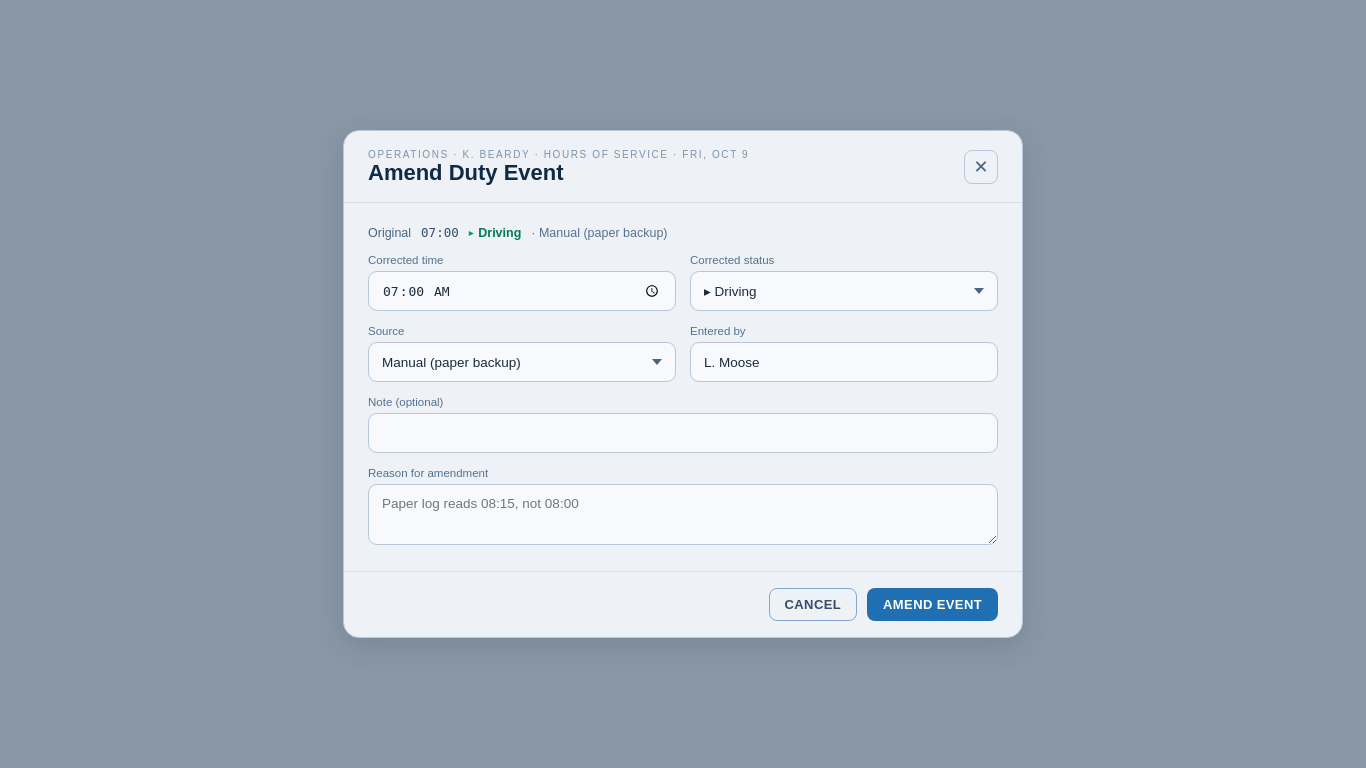
AmendEventModal › shows the server's refusal verbatim
The width and height of the screenshot is (1366, 768).
In the text box with placeholder "Paper log reads 08:15, not 08:00": [683, 515] box [368,484,998,545], type "r"
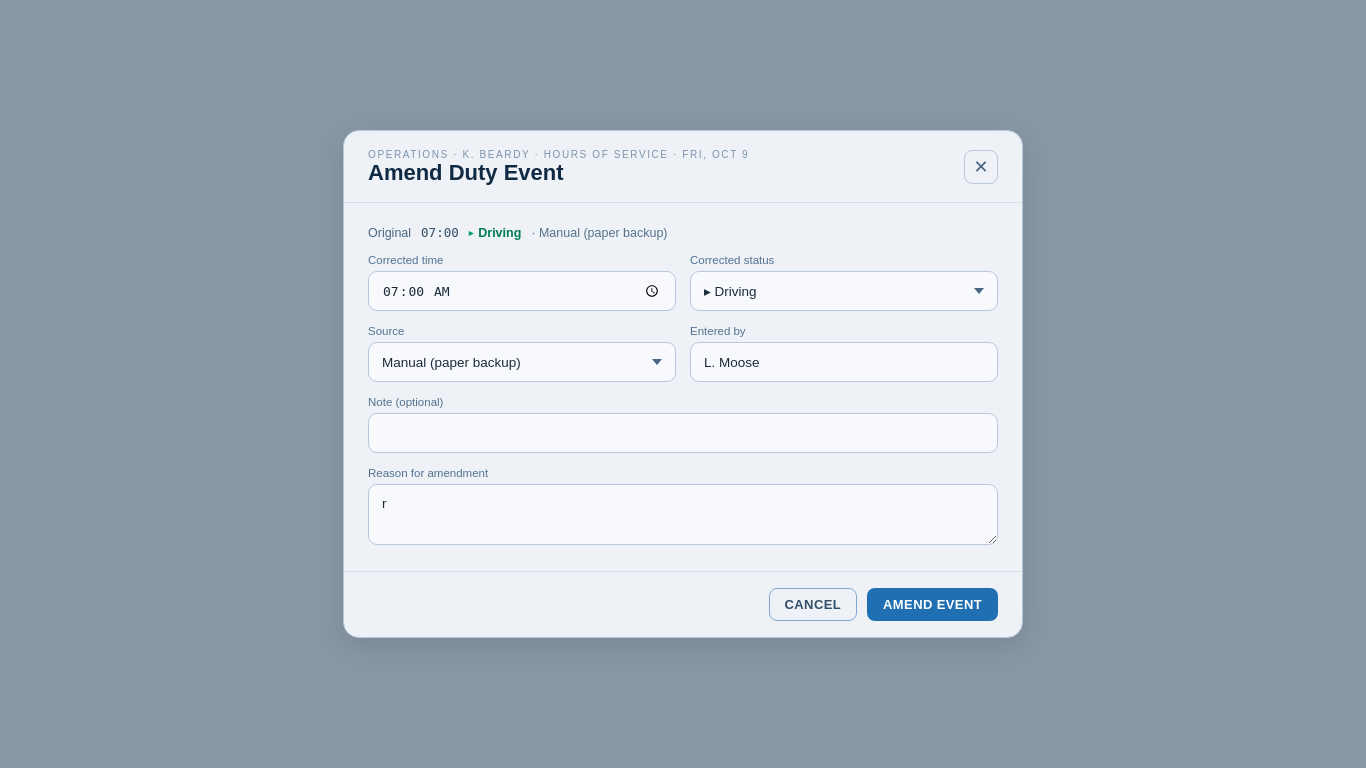
Click the text "AMEND EVENT": [933, 604] box [867,588,998,621]
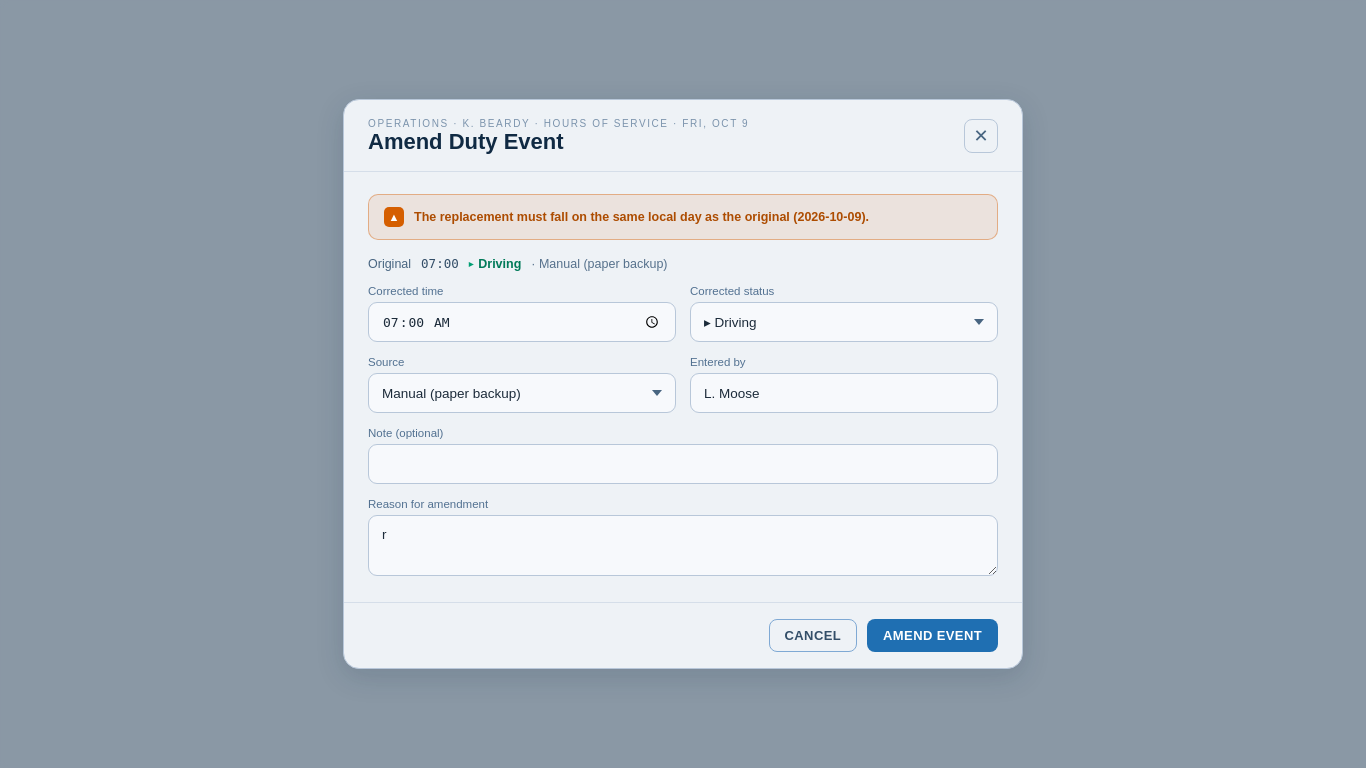
Result: the text "The replacement must fall on the same local day as the original (2026-10-09)." is shown at [414,210,869,224]
